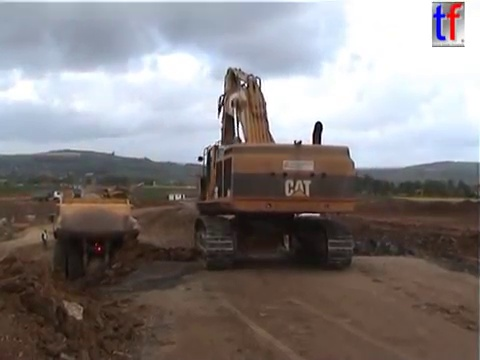excavator: (190, 64, 360, 272)
truck: (47, 196, 143, 281), (30, 189, 65, 203), (101, 185, 130, 200)
worker: (39, 226, 50, 250)
